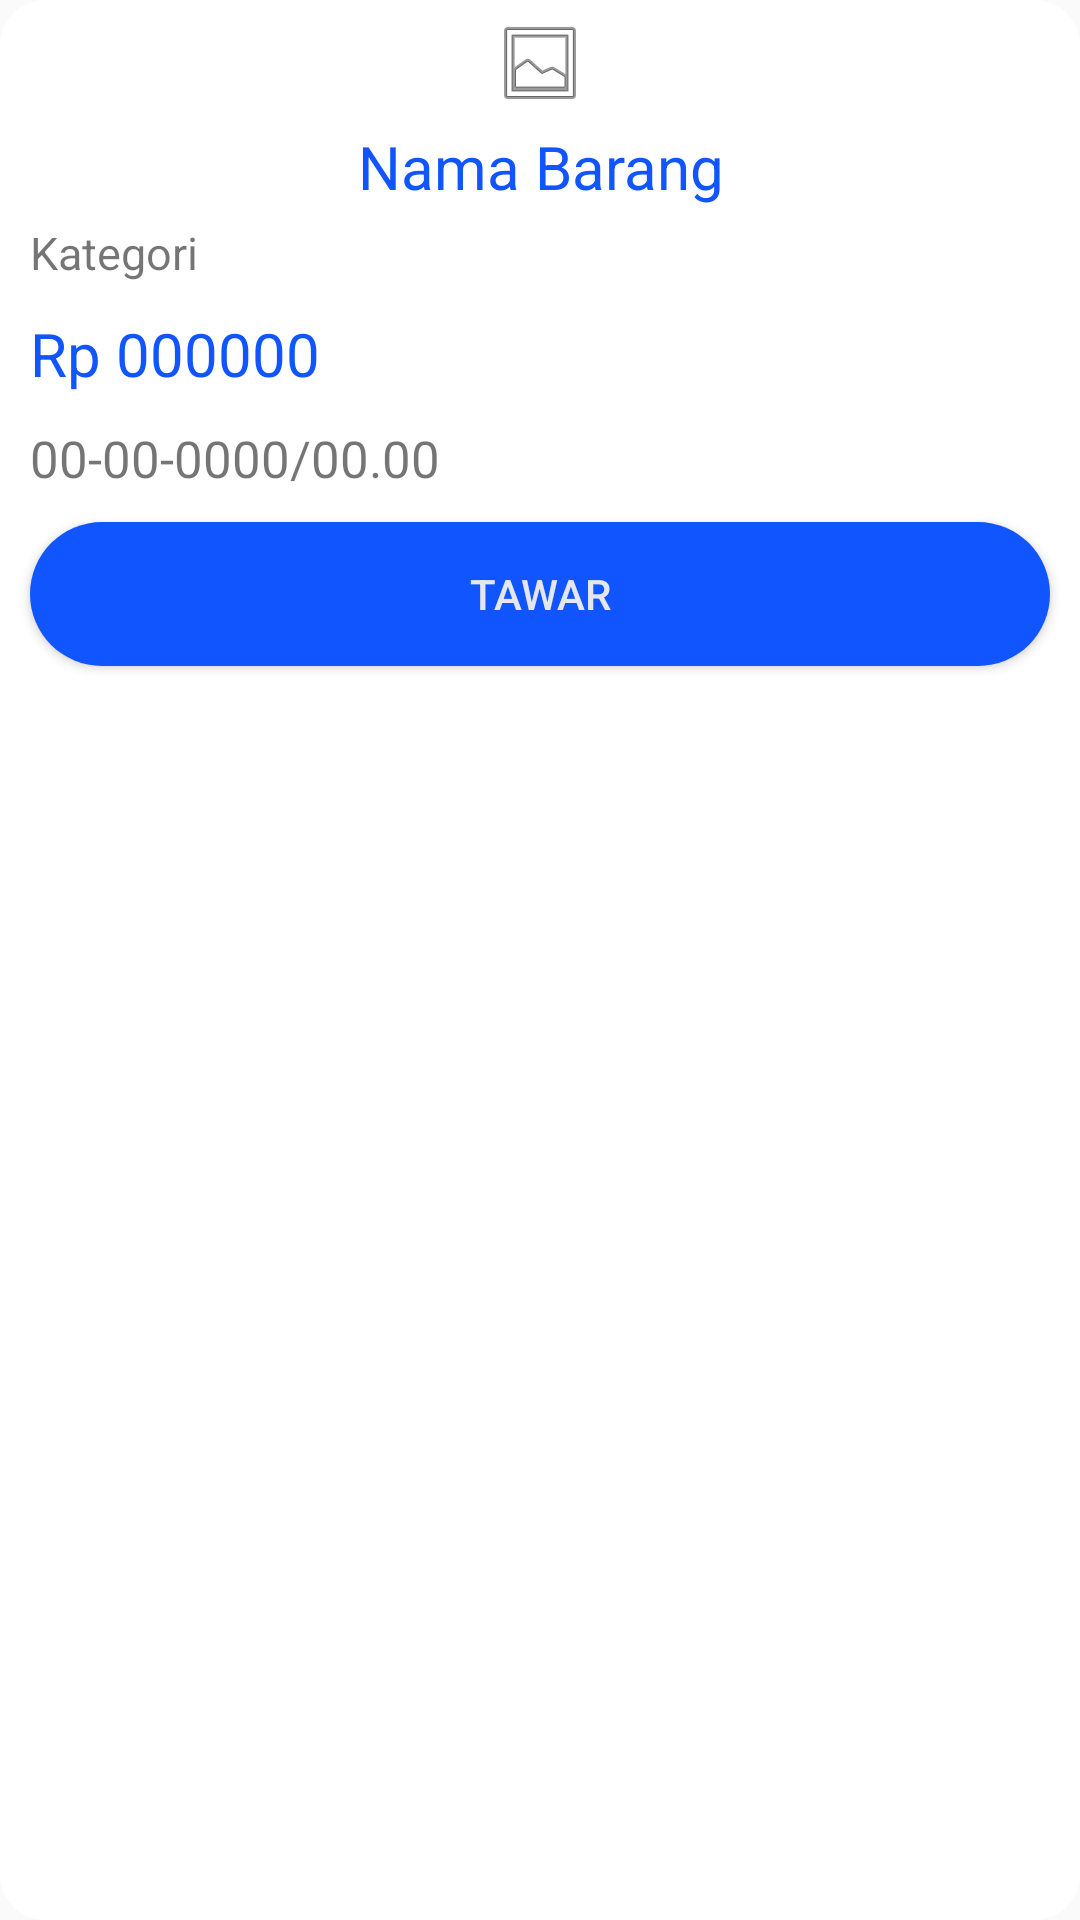

Locate icon controls on the screen. Image size 1080x1920, boxes as detection(x1, y1, x2, y2).
gallery: detection(504, 27, 576, 99)
